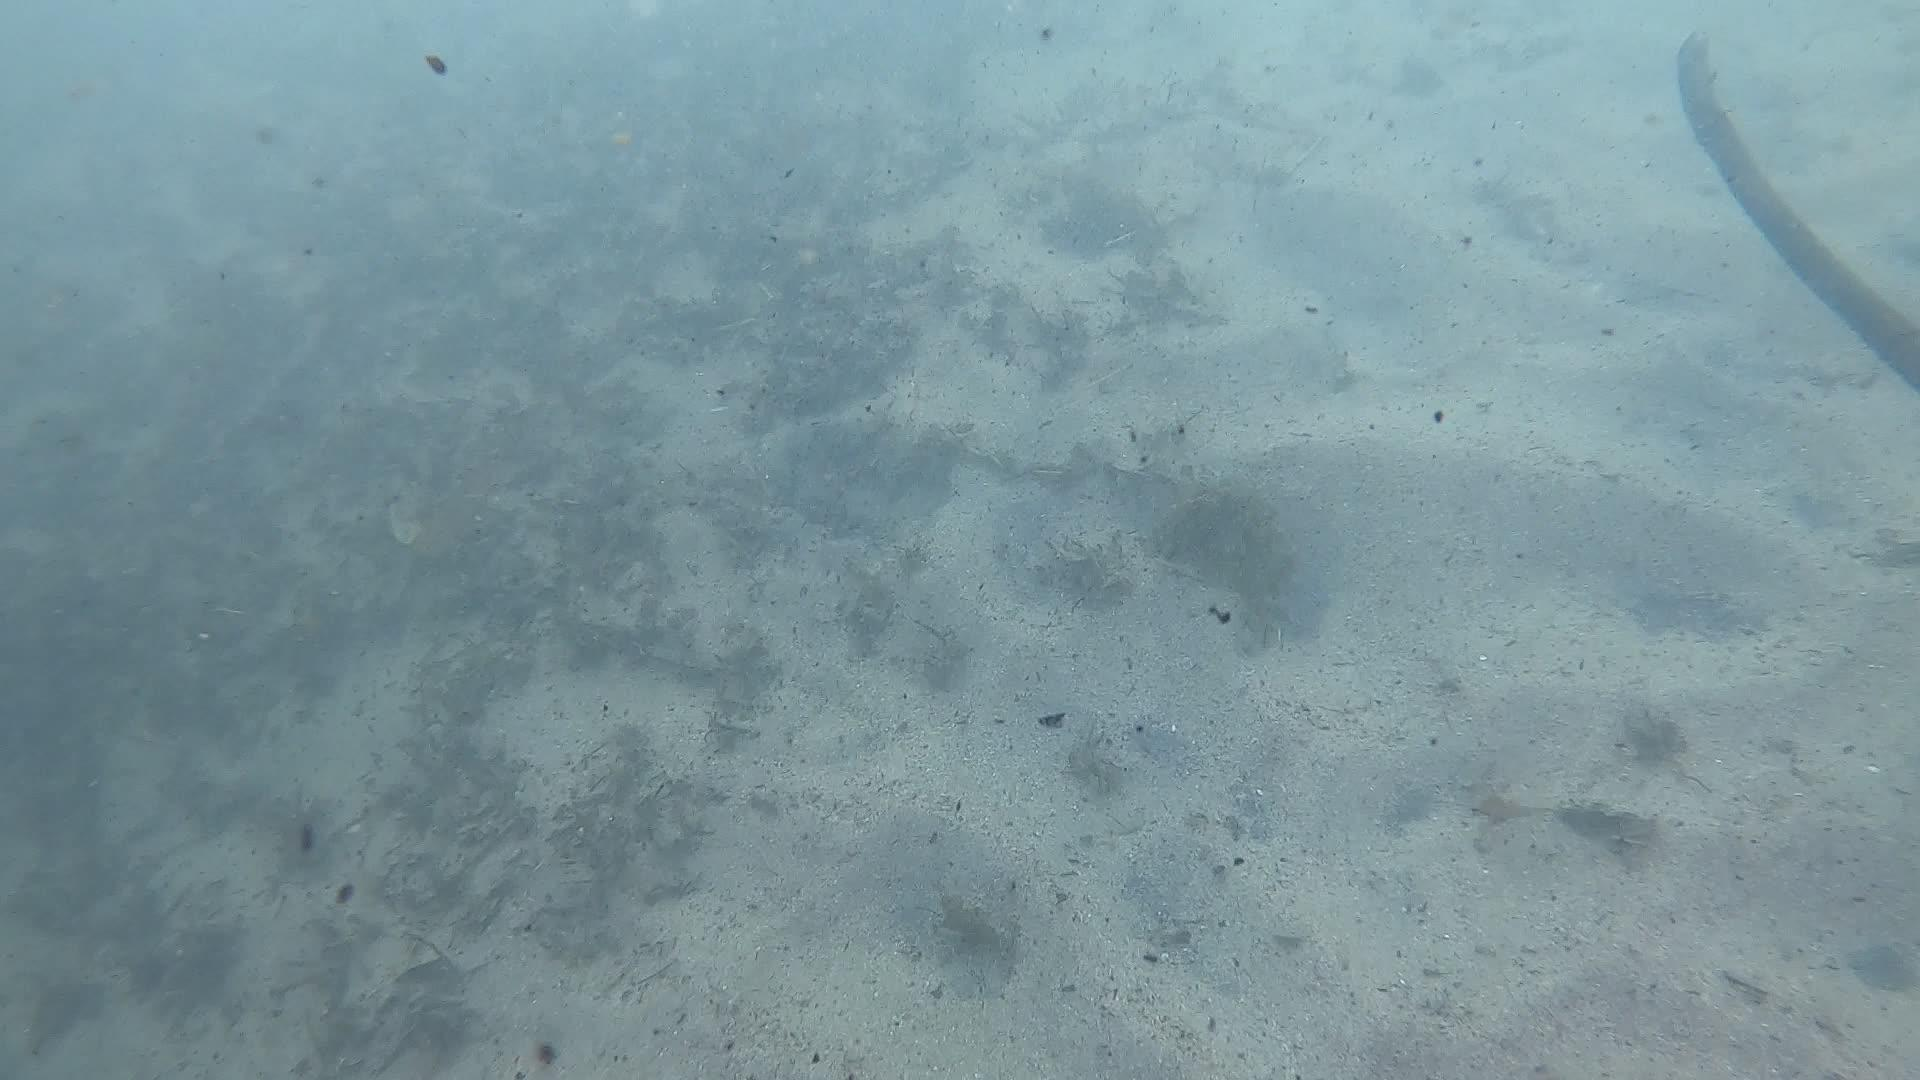wood: (1673, 37, 1920, 396)
